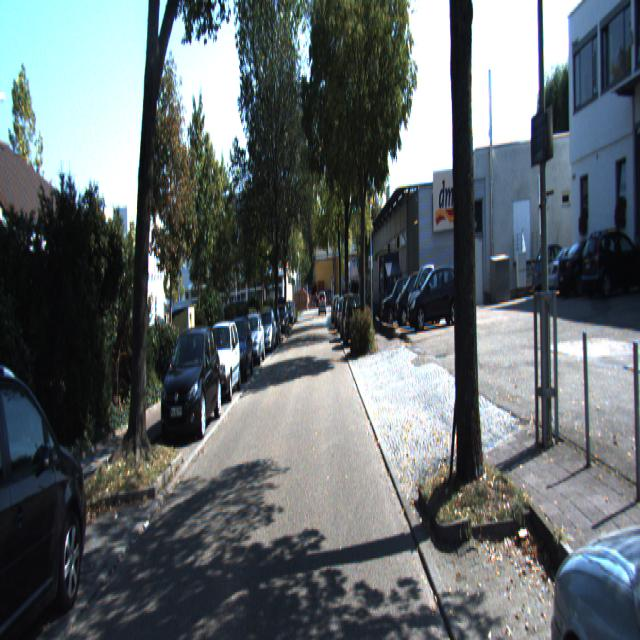Car: (541, 294, 640, 638), (0, 348, 92, 638), (158, 321, 222, 447), (557, 226, 627, 296), (580, 226, 640, 296), (406, 262, 463, 335), (541, 234, 609, 293), (200, 318, 243, 406), (526, 242, 590, 299), (392, 264, 434, 328), (224, 316, 254, 386), (239, 313, 265, 370), (343, 292, 364, 346), (256, 308, 277, 352)
